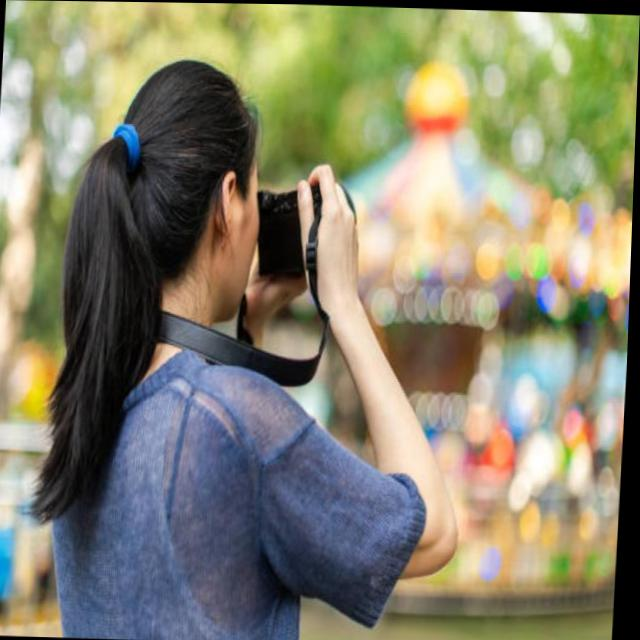no helmet: (48, 16, 290, 389)
